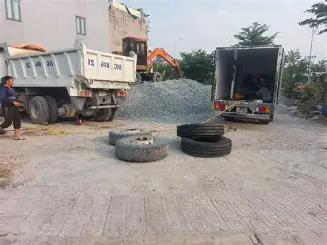ROAD_OBSTACLE: (177, 120, 232, 155), (115, 128, 169, 160), (109, 122, 152, 143)
